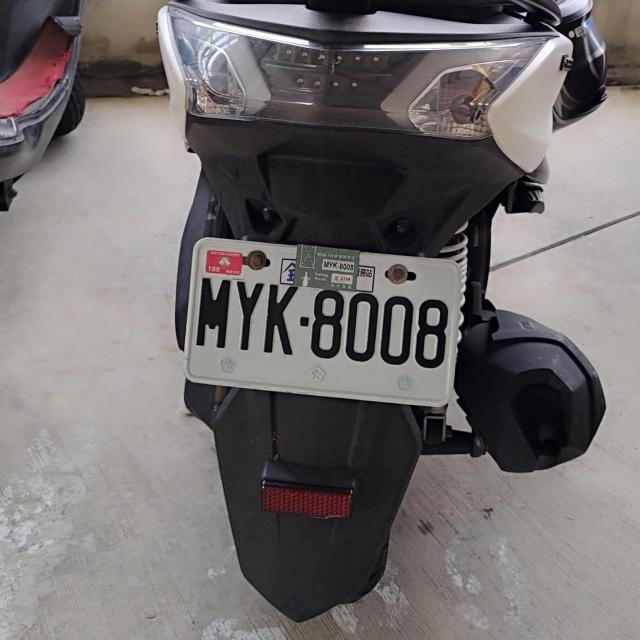W: (180, 236, 467, 405)
